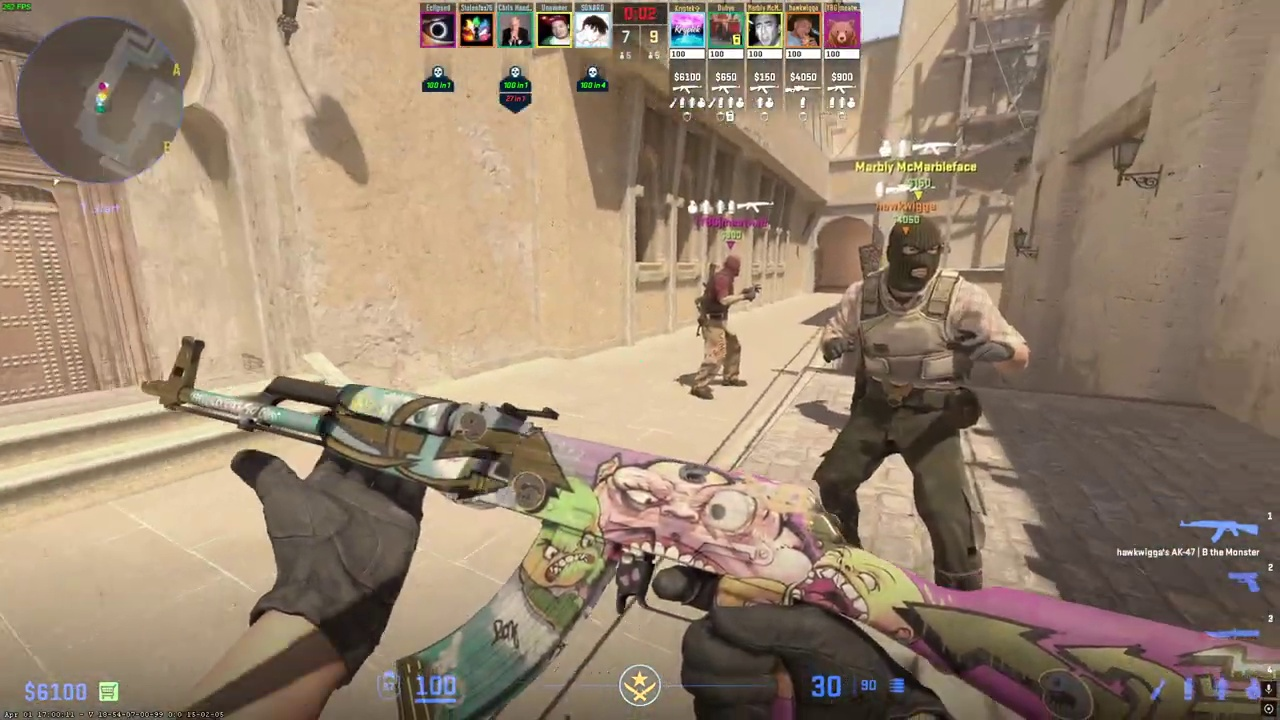Terrorist: (813, 215, 1019, 592), (691, 255, 755, 399)
